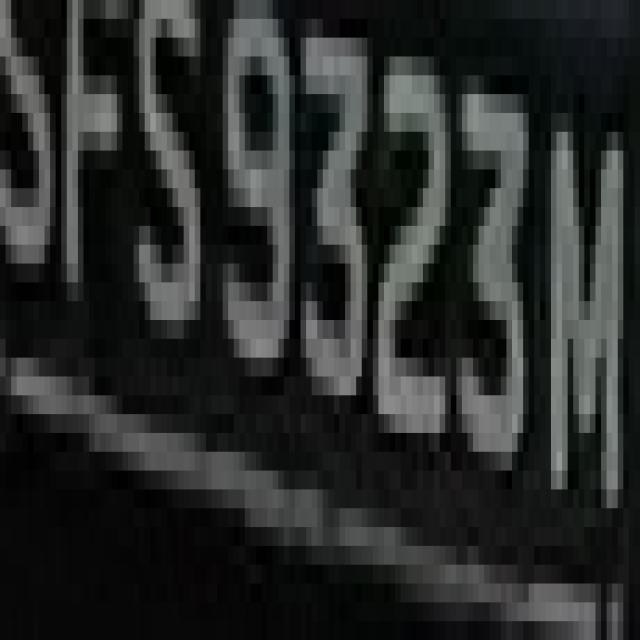2: (373, 0, 456, 508)
3: (295, 0, 373, 452), (456, 94, 529, 452)
9: (217, 0, 306, 471)
F: (50, 19, 134, 452)
M: (540, 75, 640, 565)
S: (128, 38, 217, 414), (6, 19, 61, 376)
